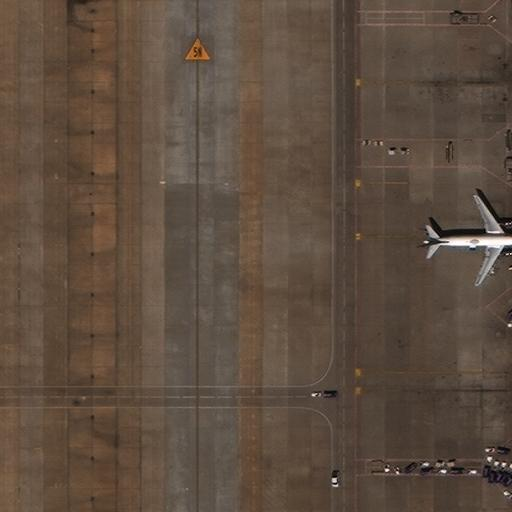Medium Civil Transport: (420, 194, 511, 285)
